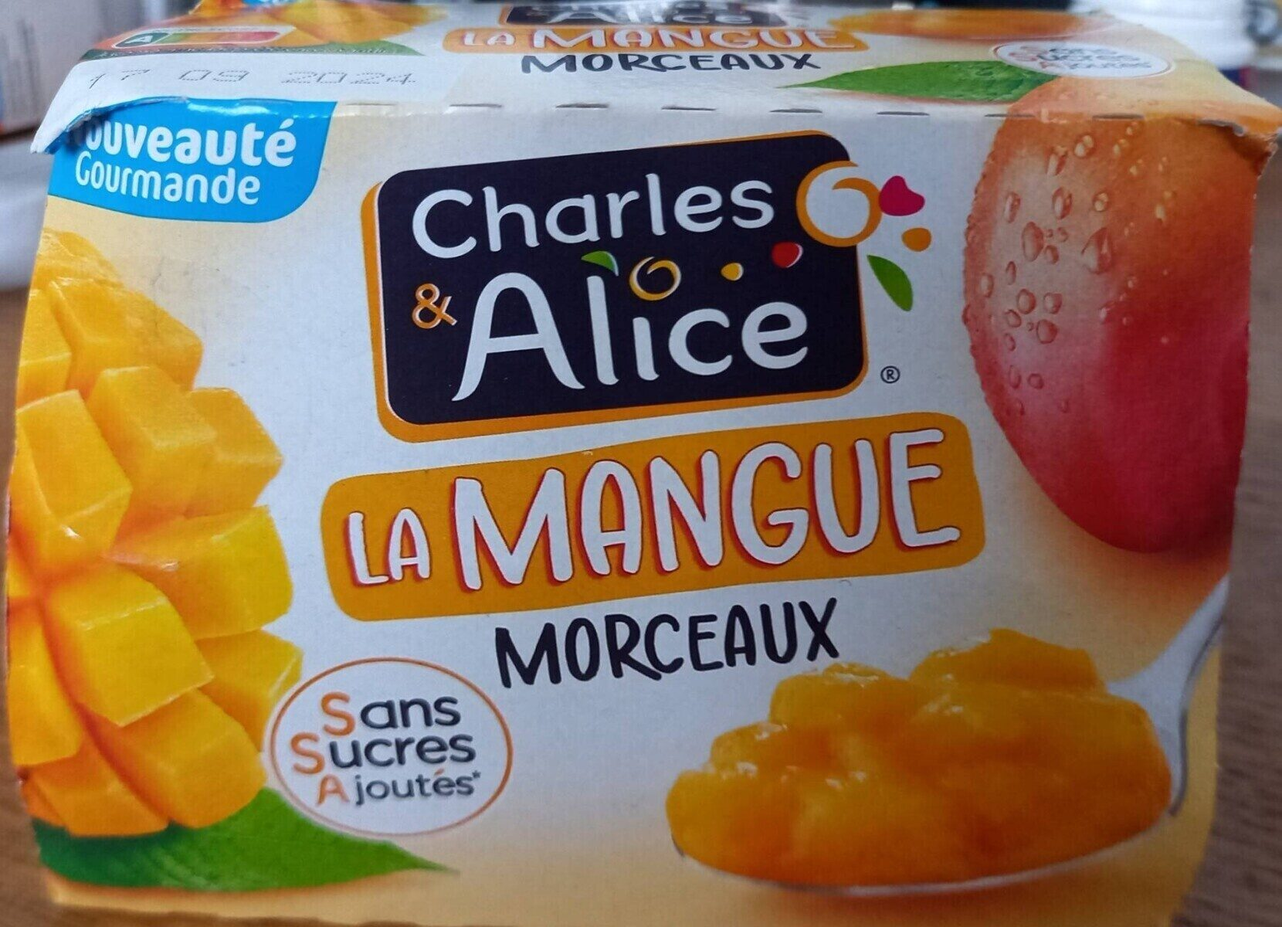La Mangue Morceaux: (64, 46, 1218, 881)
